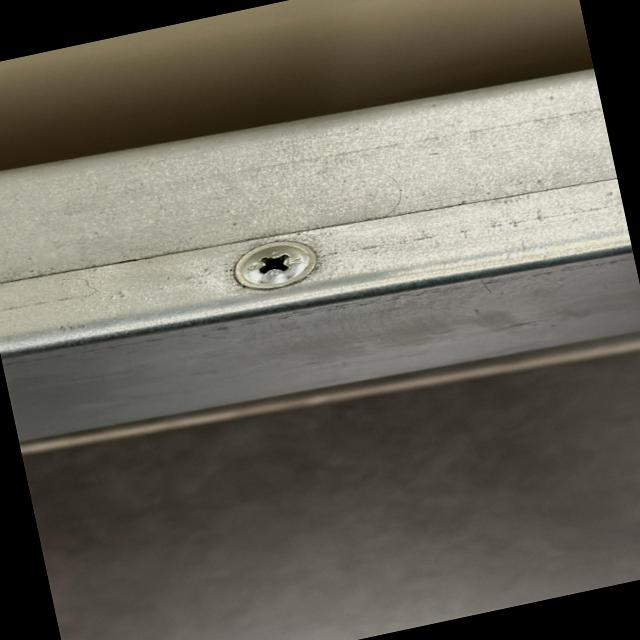Phillips: (221, 234, 338, 296)
